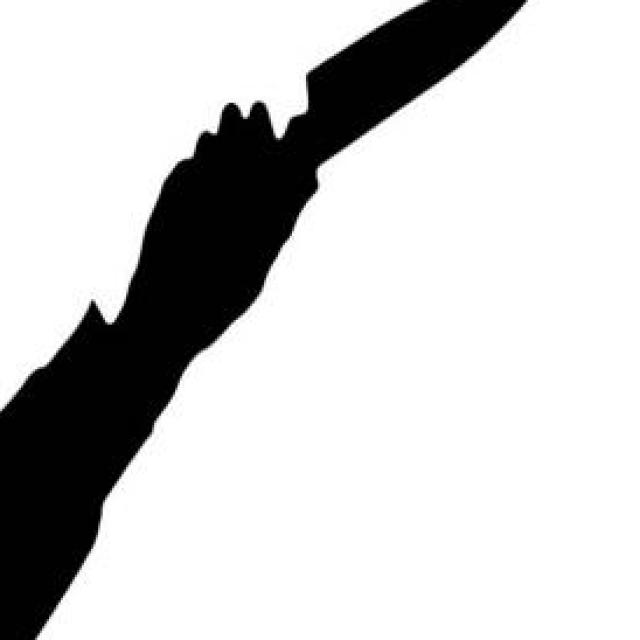knife: (266, 0, 544, 220)
